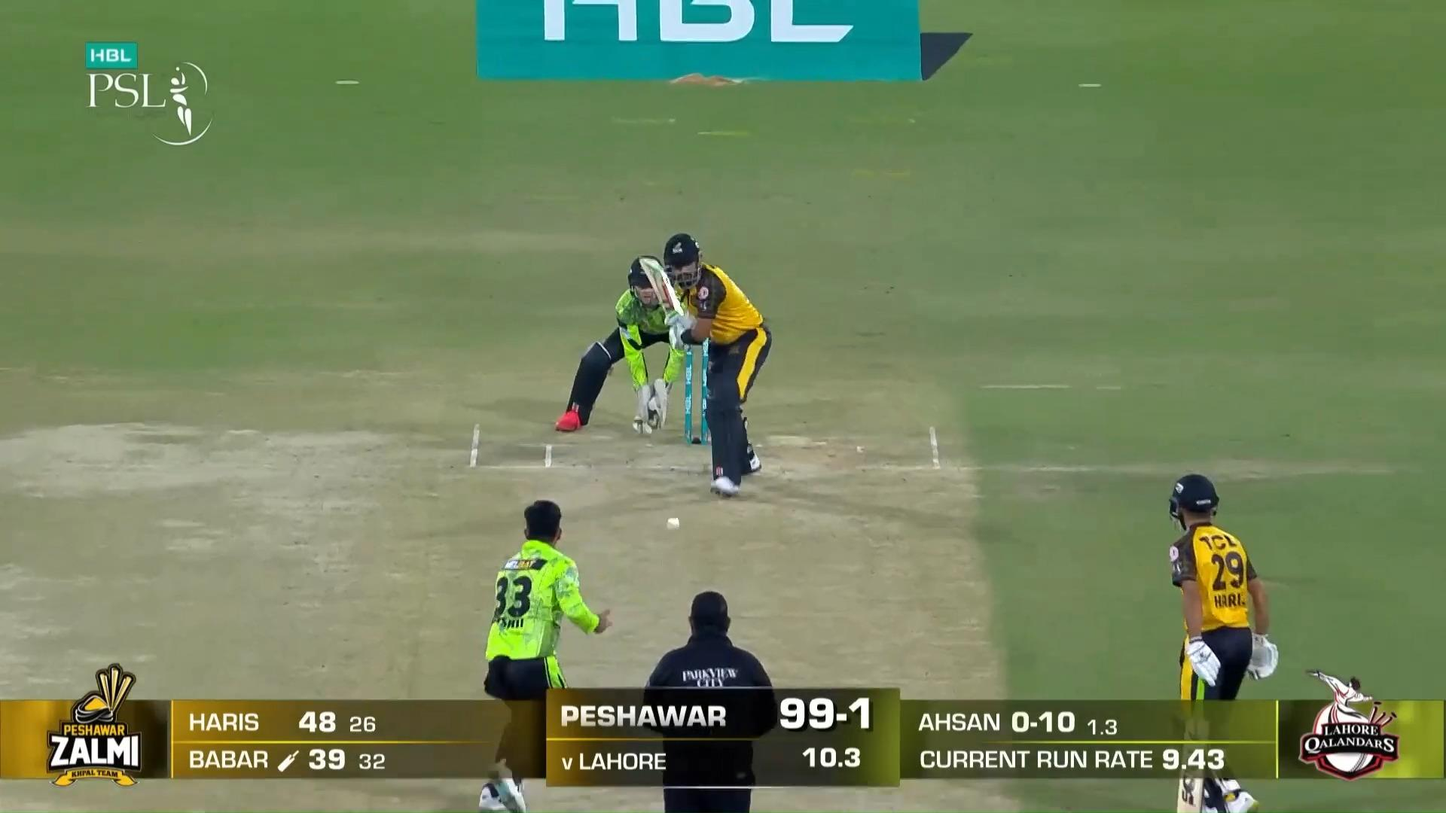batsman: (641, 231, 774, 500)
